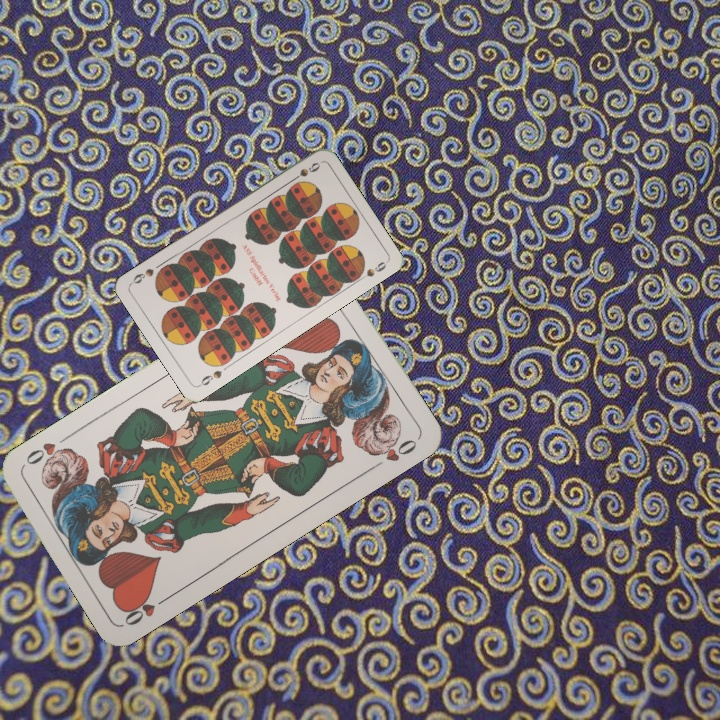HO: (119, 590, 174, 629)
S9: (286, 158, 323, 185), (195, 366, 225, 389)
